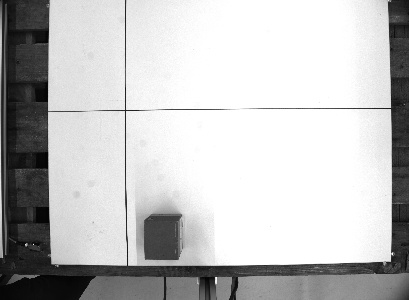b7: (139, 211, 187, 262)
